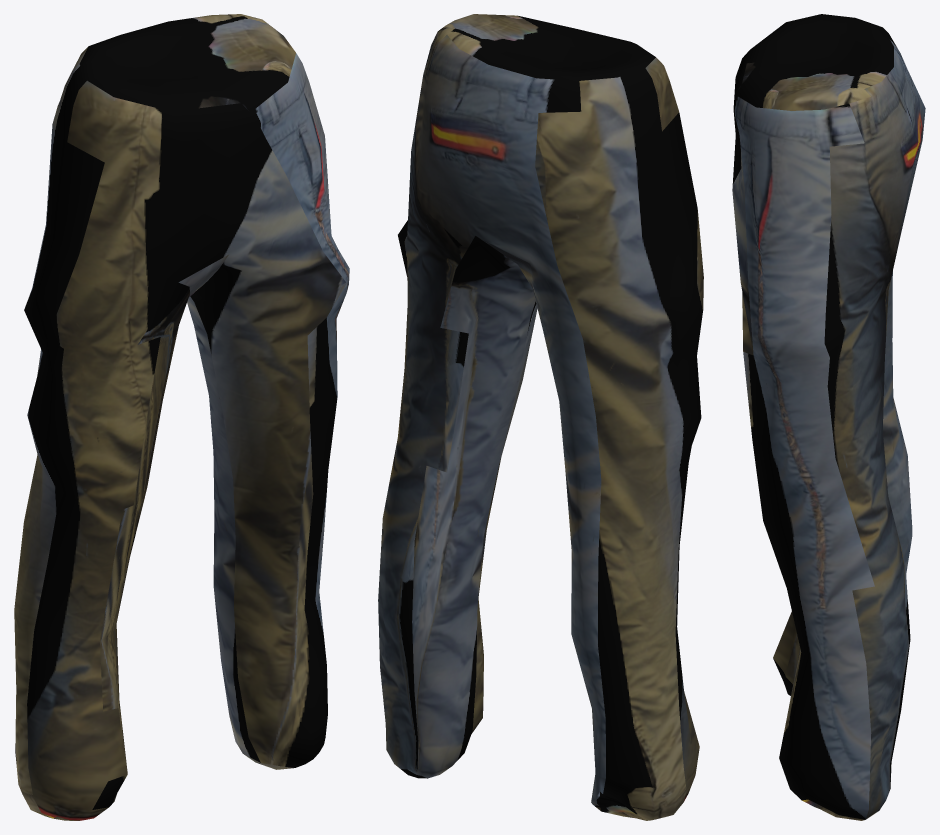
File: BaseModelPants.fbx
The picture shows the model from 3 angles, left to right: view 1: azimuth 30°, elevation 25°; view 2: azimuth 150°, elevation 25°; view 3: azimuth 270°, elevation 25°; orthographic projection. The views are drawn at different scales.
Parts seen in each view (by area): view 1: Mesh0; view 2: Mesh0; view 3: Mesh0.
Boxes of the visible parts, x1,y1,x2,y2 form: Mesh0: (14, 14, 349, 820); Mesh0: (378, 14, 703, 820); Mesh0: (732, 14, 925, 820).
Size of the model in its own units: 43.56 by 105 by 25.71.
